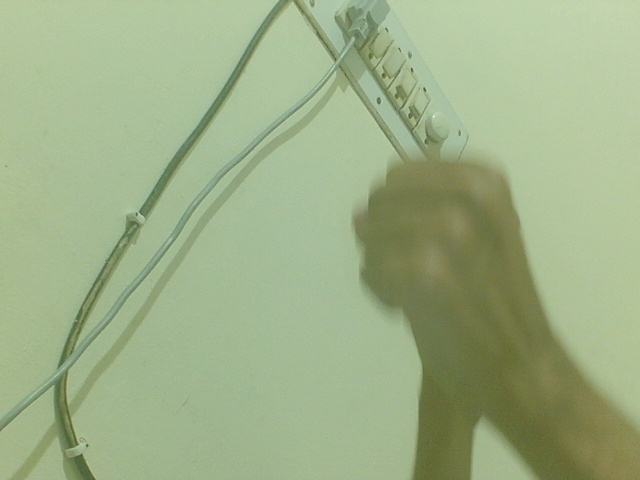hand: (348, 148, 575, 436)
